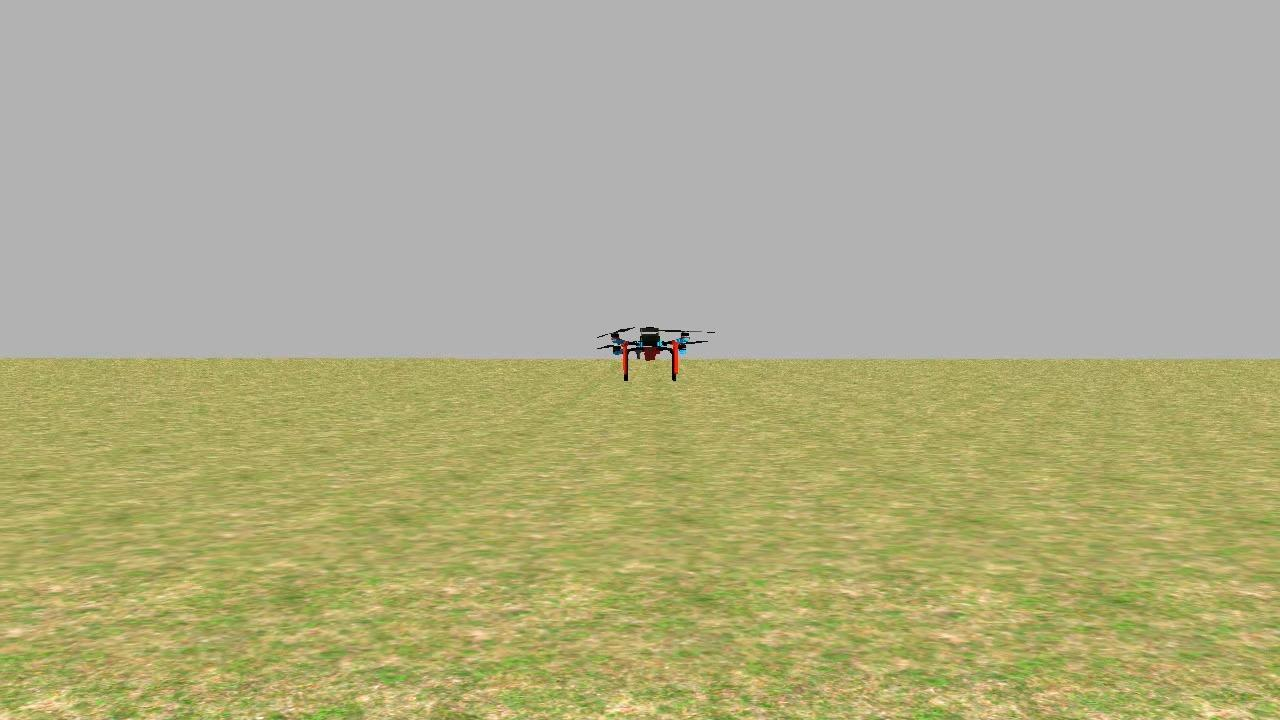UAV: (597, 310, 709, 384)
